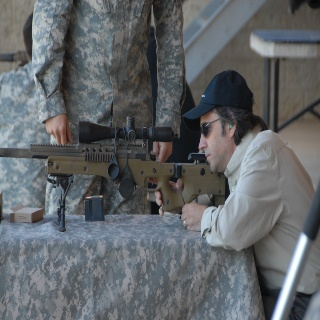rifle: (1, 116, 227, 215)
